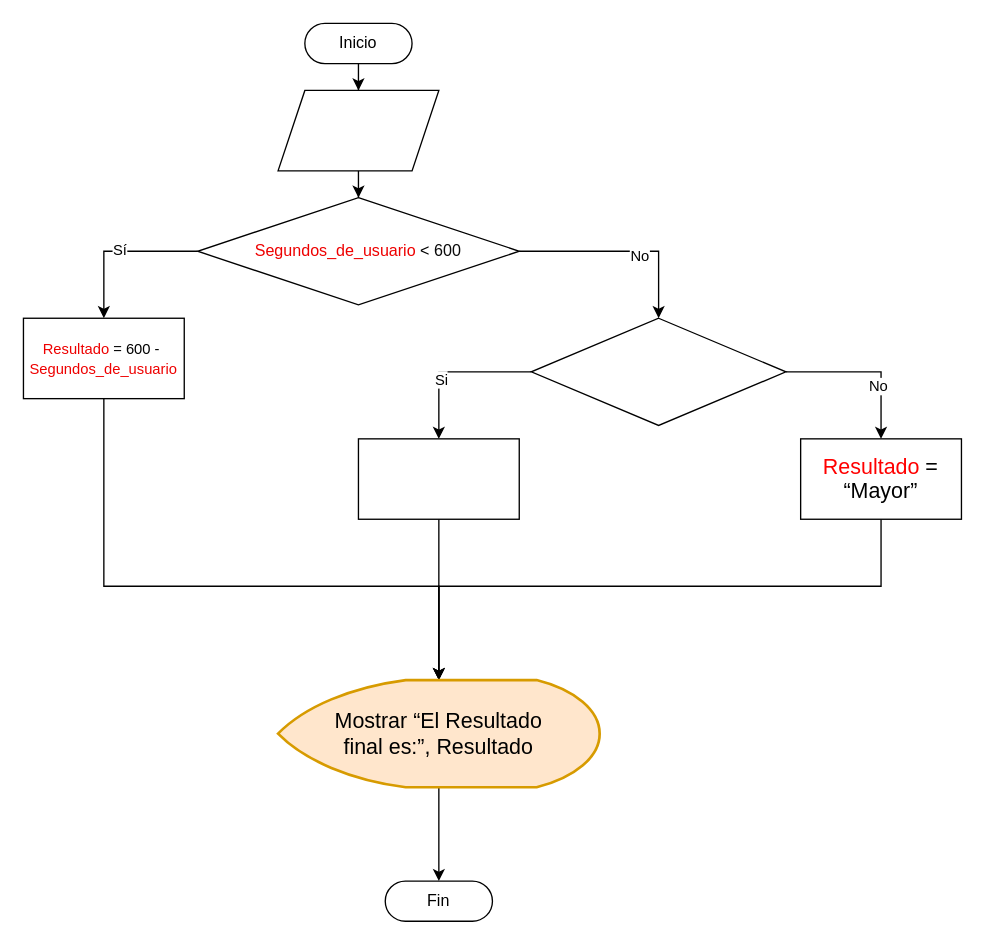
Some shapes in this 985 by 945 pixel diagram are drawn without their labels. The shapes that lost their labels are listed below. From the top down, each one's centre as x and y in pixels, then its label:
the point at 358,130: Pedir Segundos_de_usuario
the point at 658,371: Segundos_de_usuario = 600
the point at 438,478: Resultado = “Igual”
